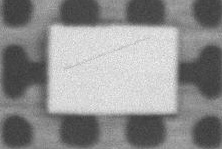DIE_CRACK: (95, 25, 222, 46)
